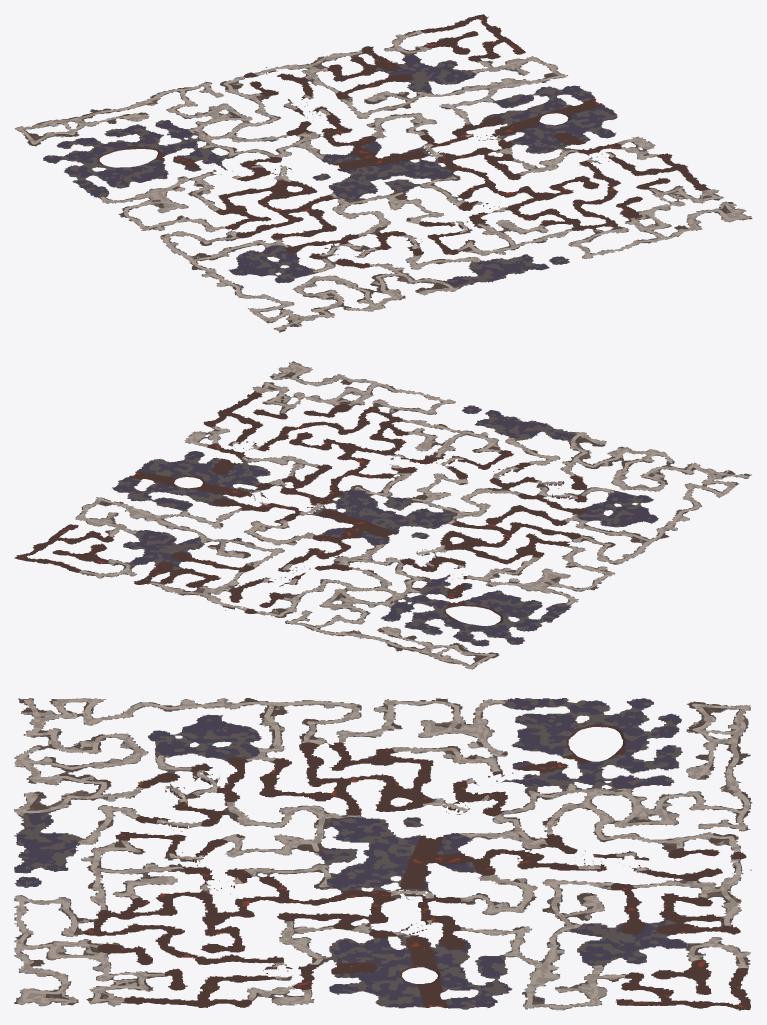
The model's file is Dungeon-3B-Ground.fbx.
3 views of the same model, one above another, from view 1: azimuth 30°, elevation 25°; view 2: azimuth 150°, elevation 25°; view 3: azimuth 270°, elevation 25° (orthographic). The views are drawn at different scales.
Parts seen in each view (by area): view 1: Dungeon-3B-Ground-c64, Dungeon-3B-Ground-c74, Dungeon-3B-Ground-c33, Dungeon-3B-Ground-c63, Dungeon-3B-Ground-c44, Dungeon-3B-Ground-c43, Dungeon-3B-Ground-c05, Dungeon-3B-Ground-c12, Dungeon-3B-Ground-c66, Dungeon-3B-Ground-c26, Dungeon-3B-Ground-c06, Dungeon-3B-Ground-c30 (+52 smaller); view 2: Dungeon-3B-Ground-c64, Dungeon-3B-Ground-c74, Dungeon-3B-Ground-c33, Dungeon-3B-Ground-c44, Dungeon-3B-Ground-c63, Dungeon-3B-Ground-c05, Dungeon-3B-Ground-c12, Dungeon-3B-Ground-c43, Dungeon-3B-Ground-c66, Dungeon-3B-Ground-c26, Dungeon-3B-Ground-c06, Dungeon-3B-Ground-c15 (+52 smaller); view 3: Dungeon-3B-Ground-c64, Dungeon-3B-Ground-c74, Dungeon-3B-Ground-c33, Dungeon-3B-Ground-c63, Dungeon-3B-Ground-c43, Dungeon-3B-Ground-c44, Dungeon-3B-Ground-c05, Dungeon-3B-Ground-c12, Dungeon-3B-Ground-c06, Dungeon-3B-Ground-c66, Dungeon-3B-Ground-c26, Dungeon-3B-Ground-c30 (+52 smaller).
Part boxes in pixels (x1=…): Dungeon-3B-Ground-c64: x1=478, y1=106, x2=564, y2=143; Dungeon-3B-Ground-c74: x1=534, y1=89, x2=617, y2=128; Dungeon-3B-Ground-c33: x1=329, y1=173, x2=417, y2=213; Dungeon-3B-Ground-c63: x1=504, y1=129, x2=594, y2=169; Dungeon-3B-Ground-c44: x1=352, y1=141, x2=442, y2=173; Dungeon-3B-Ground-c43: x1=382, y1=159, x2=460, y2=192; Dungeon-3B-Ground-c05: x1=72, y1=167, x2=164, y2=203; Dungeon-3B-Ground-c12: x1=239, y1=232, x2=330, y2=268; Dungeon-3B-Ground-c66: x1=399, y1=52, x2=486, y2=90; Dungeon-3B-Ground-c26: x1=156, y1=111, x2=244, y2=150; Dungeon-3B-Ground-c06: x1=43, y1=141, x2=124, y2=178; Dungeon-3B-Ground-c30: x1=434, y1=250, x2=518, y2=288; Dungeon-3B-Ground-c64: x1=176, y1=472, x2=264, y2=506; Dungeon-3B-Ground-c74: x1=117, y1=460, x2=204, y2=494; Dungeon-3B-Ground-c33: x1=383, y1=491, x2=475, y2=528; Dungeon-3B-Ground-c44: x1=305, y1=502, x2=382, y2=539; Dungeon-3B-Ground-c63: x1=205, y1=450, x2=297, y2=487; Dungeon-3B-Ground-c05: x1=492, y1=584, x2=578, y2=622; Dungeon-3B-Ground-c12: x1=541, y1=495, x2=629, y2=531; Dungeon-3B-Ground-c43: x1=324, y1=483, x2=407, y2=515; Dungeon-3B-Ground-c66: x1=102, y1=529, x2=192, y2=562; Dungeon-3B-Ground-c26: x1=340, y1=582, x2=428, y2=619; Dungeon-3B-Ground-c06: x1=458, y1=610, x2=543, y2=644; Dungeon-3B-Ground-c15: x1=435, y1=574, x2=525, y2=610; Dungeon-3B-Ground-c64: x1=383, y1=933, x2=477, y2=973; Dungeon-3B-Ground-c74: x1=383, y1=971, x2=477, y2=1009; Dungeon-3B-Ground-c33: x1=289, y1=814, x2=384, y2=854; Dungeon-3B-Ground-c63: x1=290, y1=933, x2=383, y2=973; Dungeon-3B-Ground-c43: x1=289, y1=854, x2=384, y2=894; Dungeon-3B-Ground-c44: x1=383, y1=854, x2=477, y2=894; Dungeon-3B-Ground-c05: x1=475, y1=698, x2=570, y2=737; Dungeon-3B-Ground-c12: x1=197, y1=735, x2=290, y2=776; Dungeon-3B-Ground-c06: x1=569, y1=698, x2=663, y2=737; Dungeon-3B-Ground-c66: x1=577, y1=932, x2=664, y2=973; Dungeon-3B-Ground-c26: x1=569, y1=775, x2=663, y2=815; Dungeon-3B-Ground-c30: x1=14, y1=814, x2=105, y2=854.
Size of the model in its own units: 131 by 1.72 by 131.
